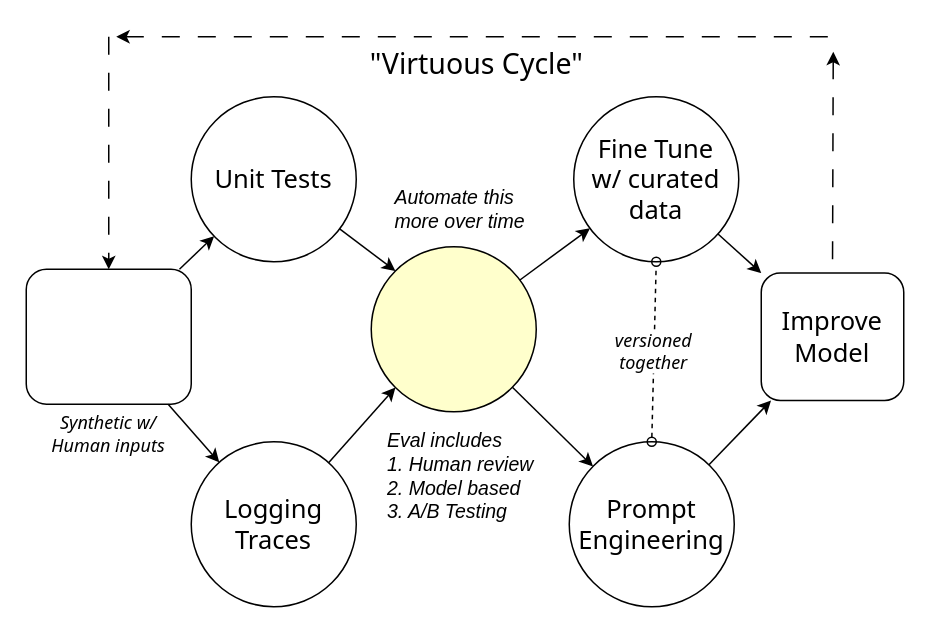
Image size: 930x633. Some labels were removed from this diagram. Here are the shapes that lost their labels. From the top down, the centre of each, then its label:
At point (108, 336): "LLM Invocations".
At point (453, 328): "Eval & Curation".
